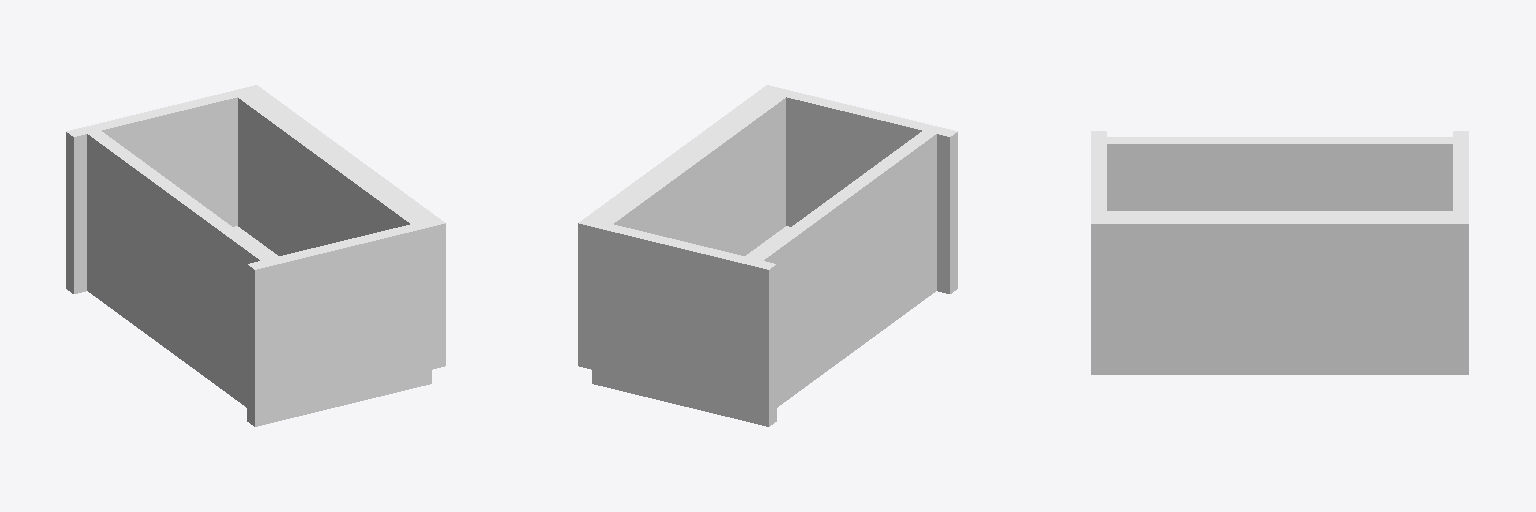
Rendered from Stenka1-12.obj.
The picture shows the model from 3 angles: view 1: azimuth 30°, elevation 25°; view 2: azimuth 150°, elevation 25°; view 3: azimuth 270°, elevation 25°; orthographic projection.
Parts seen in each view (by area): view 1: object 1; view 2: object 1; view 3: object 1.
Part boxes in pixels (x1,y1,x2,y2): object 1: (66, 85, 445, 426); object 1: (578, 85, 957, 426); object 1: (1091, 131, 1468, 374).
Size of the model in its own units: 1.4 by 1.1 by 2.4.